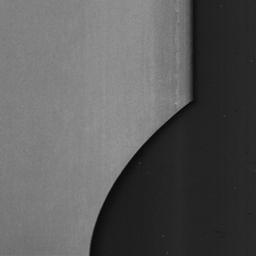Crescent gap: (89, 103, 188, 256)
